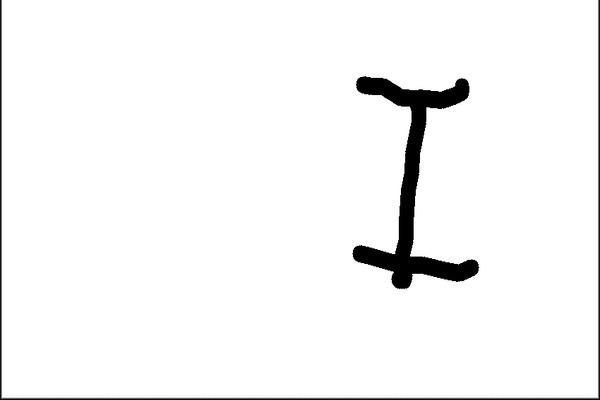i: (341, 60, 484, 297)
